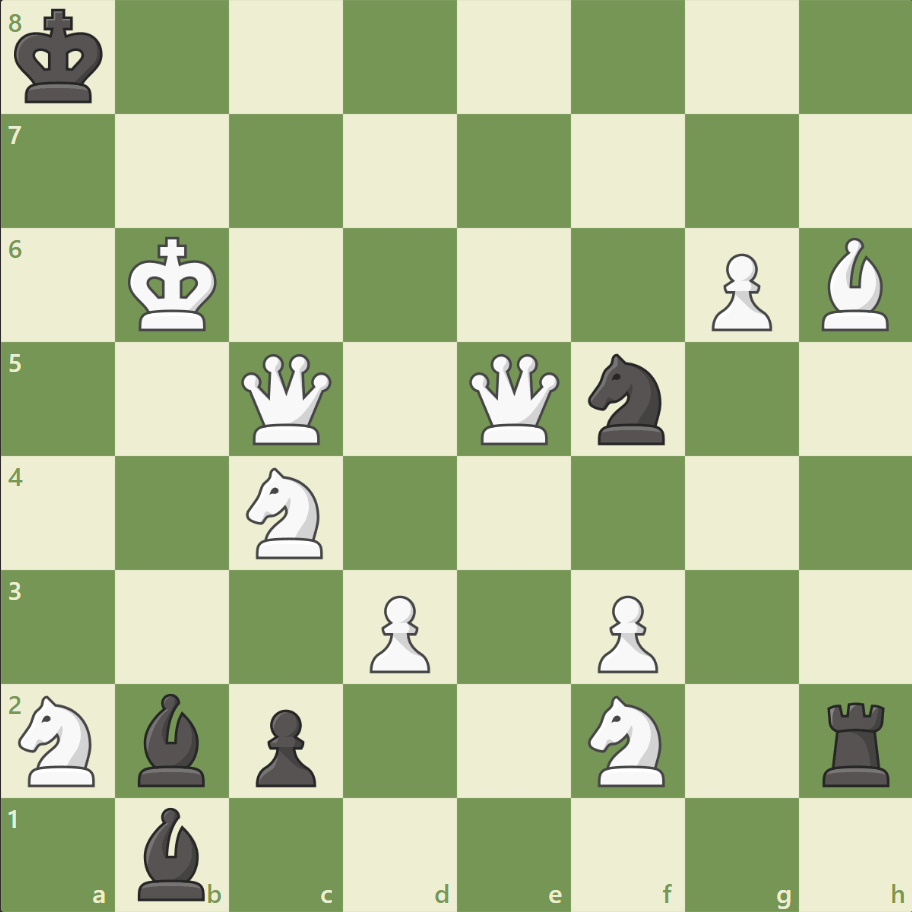B: (812, 233, 896, 336)
K: (124, 231, 224, 339)
N: (238, 461, 335, 564), (11, 688, 108, 791), (579, 688, 676, 791)
P: (701, 246, 776, 337), (361, 586, 435, 677), (588, 586, 662, 677)
Q: (237, 349, 336, 449), (464, 349, 563, 449)
b: (131, 687, 215, 790), (131, 801, 215, 904)
k: (11, 4, 111, 112)
n: (579, 348, 676, 450)
p: (247, 700, 322, 791)
r: (814, 693, 897, 790)
